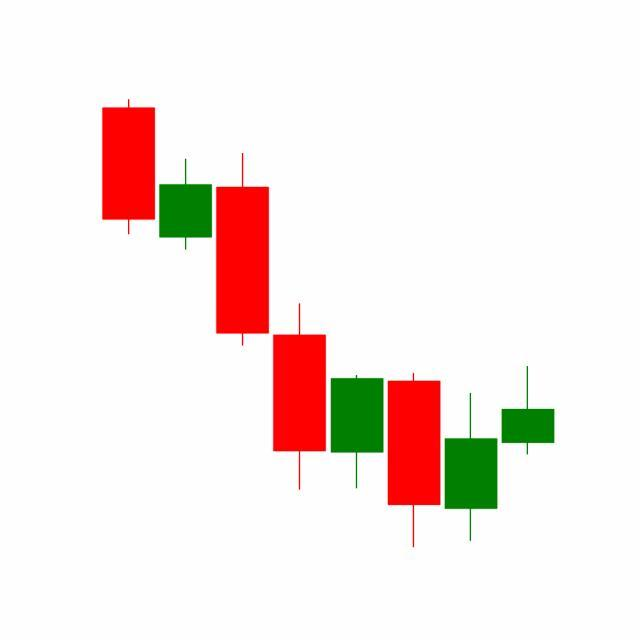Hikkake Pattern: (270, 299, 555, 548)
